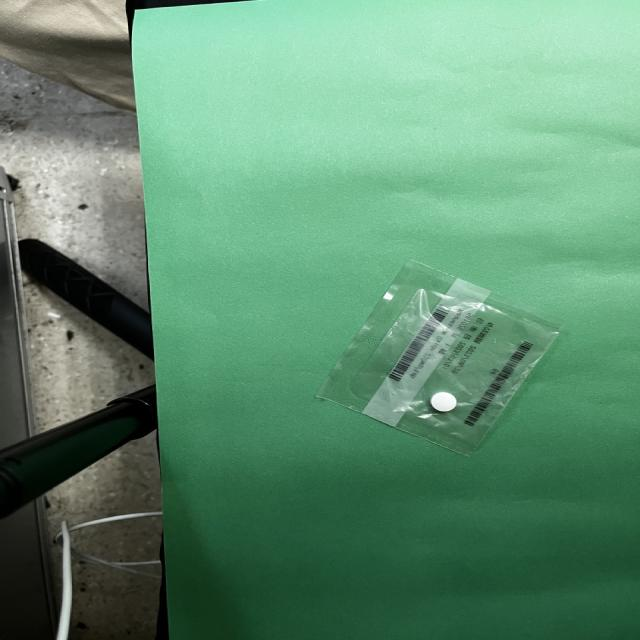Other Objects: (317, 262, 559, 455)
